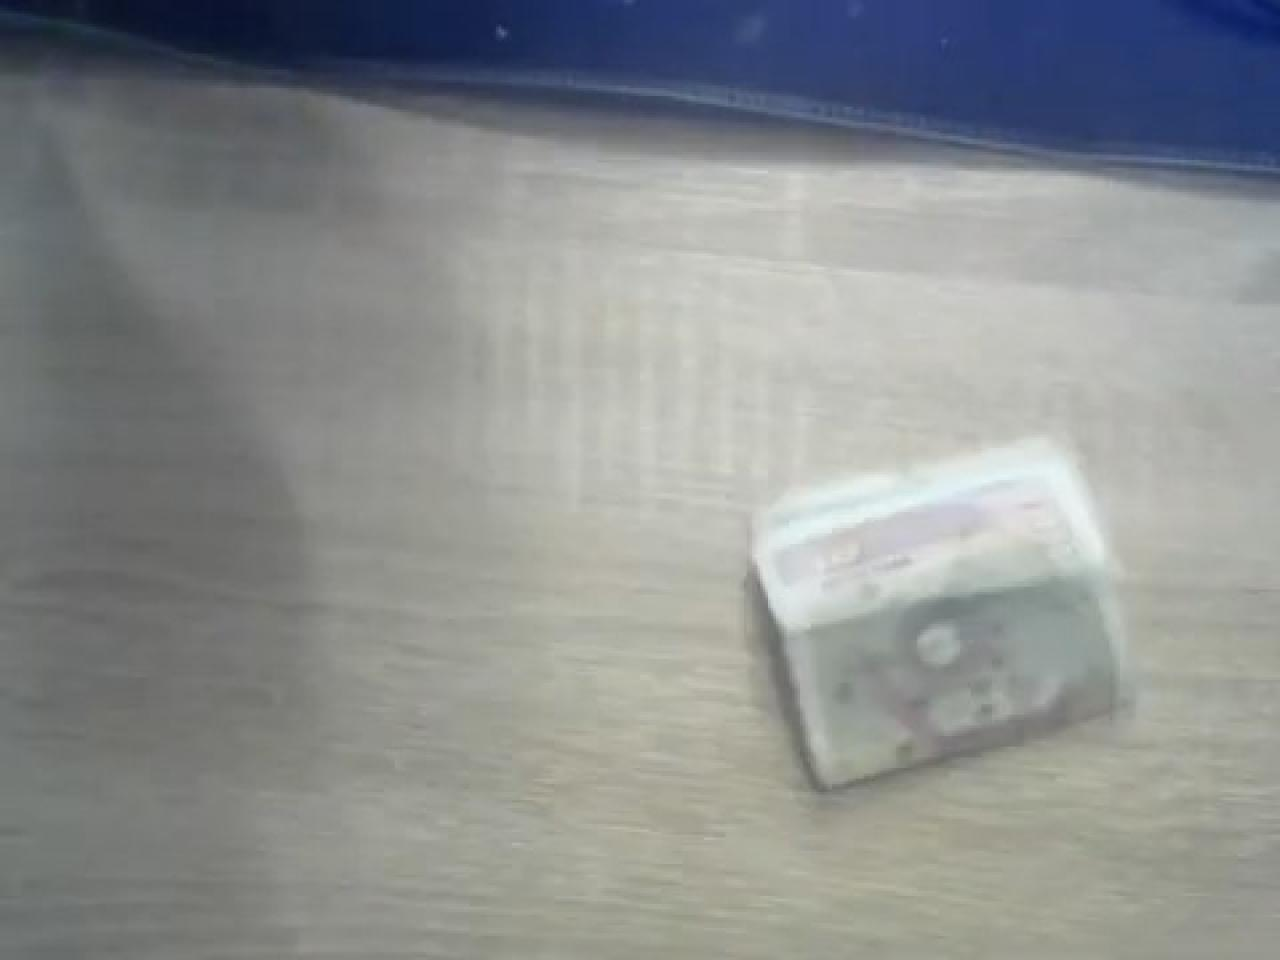10leva: (741, 432, 1131, 792)
